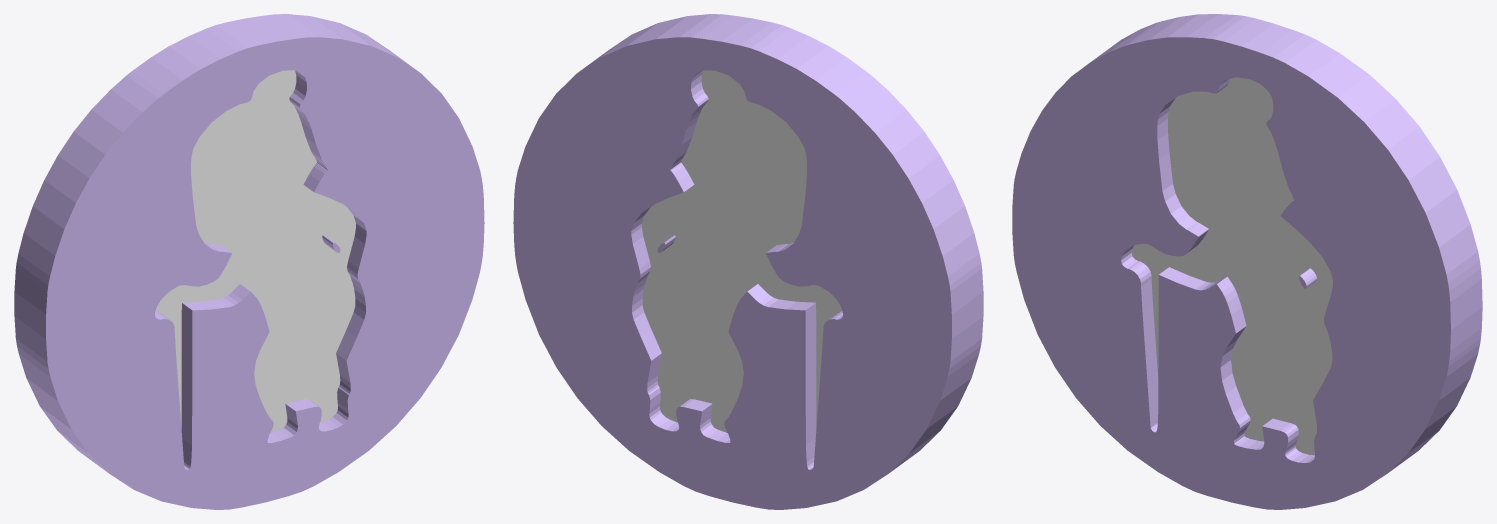
The model's file is roujinhome-maker-backup.fbx.
3 views of the same model, side by side, from view 1: azimuth 30°, elevation 25°; view 2: azimuth 150°, elevation 25°; view 3: azimuth 330°, elevation 25° (orthographic).
Parts seen in each view (by area): view 1: obj_0.007; view 2: obj_0.007; view 3: obj_0.007.
Part boxes in pixels (x1,y1,x2,y2): obj_0.007: (14, 14, 484, 509); obj_0.007: (513, 14, 983, 509); obj_0.007: (1012, 14, 1482, 509).
Size of the model in its own units: 4000 by 4000 by 500.
